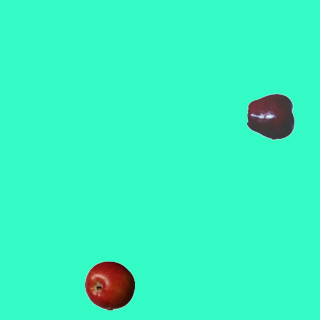Apple Braeburn: (84, 260, 134, 310)
Apple Red Delicious: (246, 91, 296, 141)
